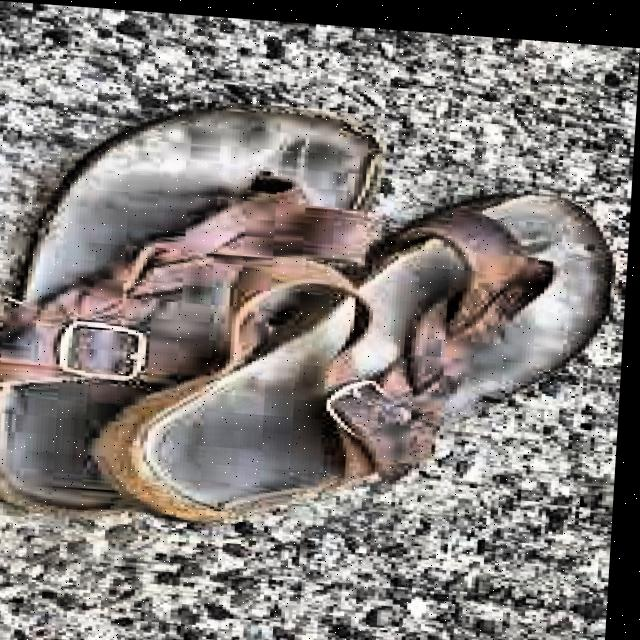shoes: (0, 74, 636, 590)
